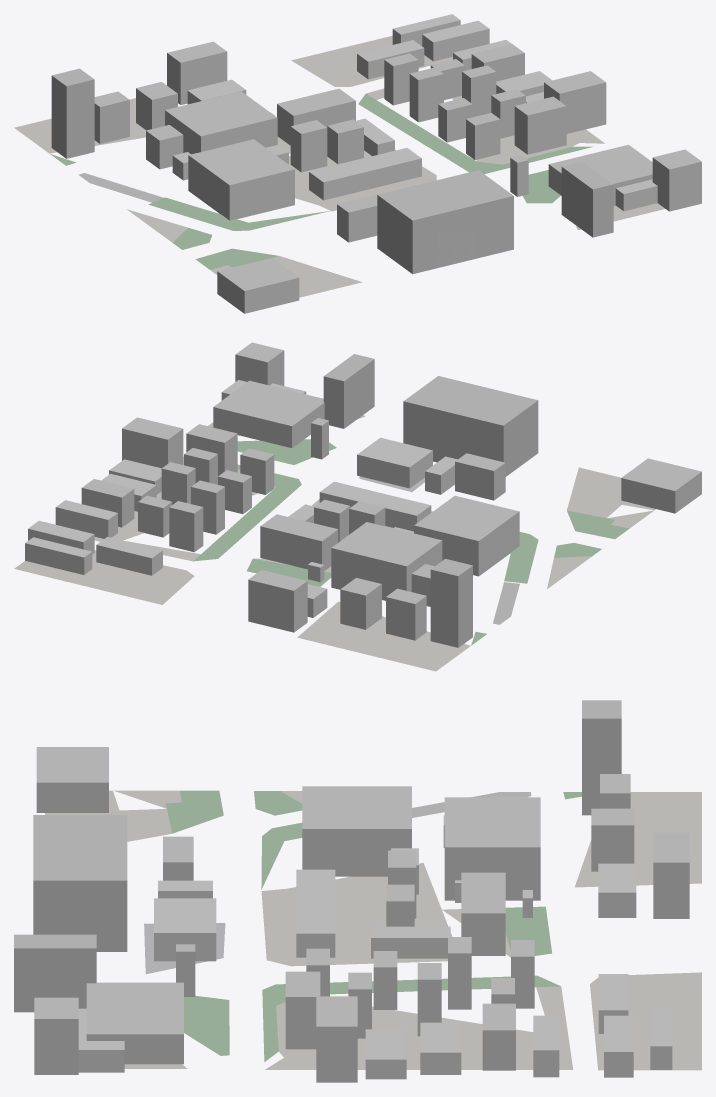
Rendered from 106_102_mid.glb.
3 renders of one model, top to bottom at view 1: azimuth 30°, elevation 25°; view 2: azimuth 150°, elevation 25°; view 3: azimuth 270°, elevation 25°, orthographic. The views are drawn at different scales.
Size of the model in its own units: 546 by 81.51 by 524.
